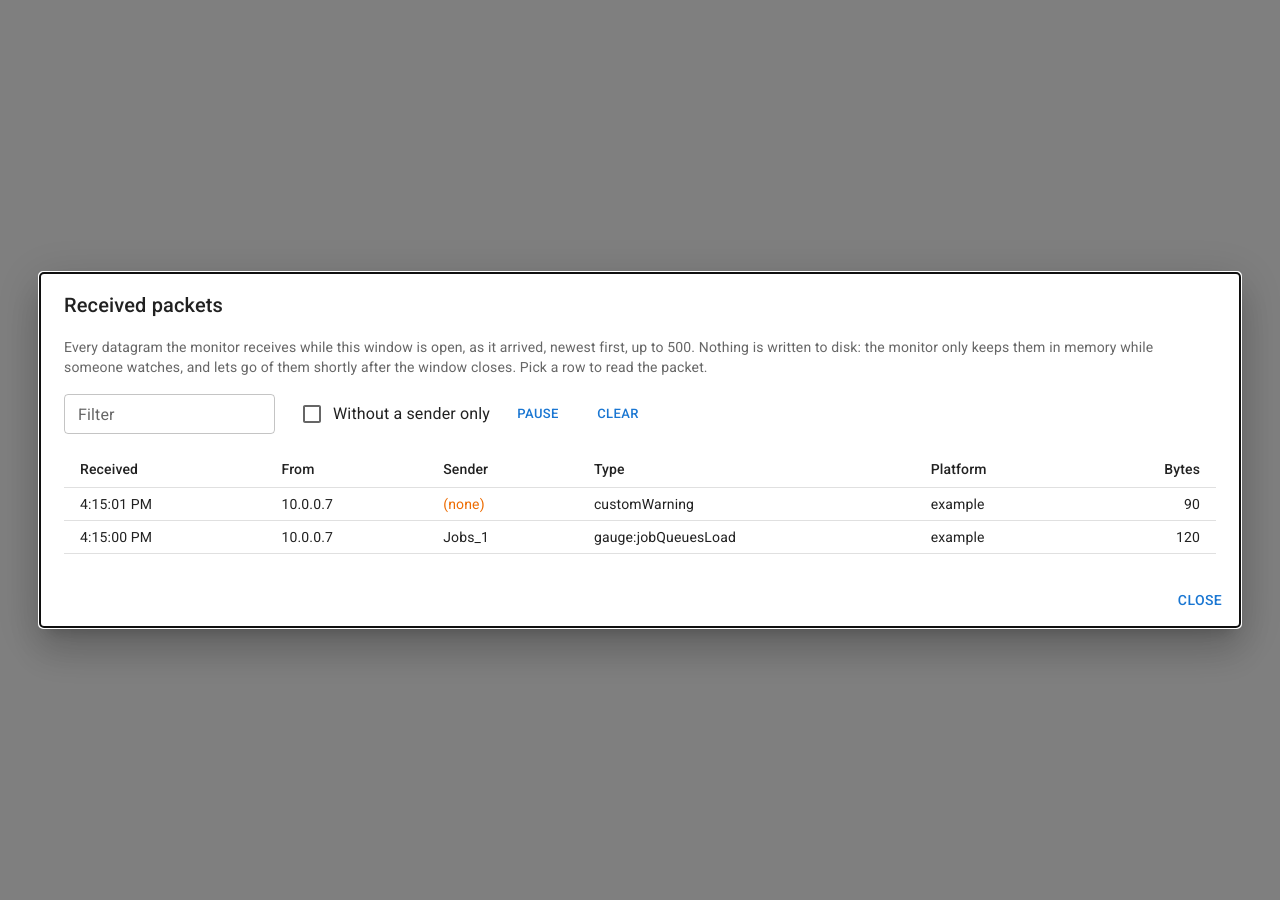
Test: PacketsDialog › shows what arrives and narrows to packets without a sender
The image size is (1280, 900).
Check: the text "Jobs_1" is shown, box [427,521,578,554]
Click the checkbox labelled "Without a sender only" at (395, 414), box [300,402,490,426]
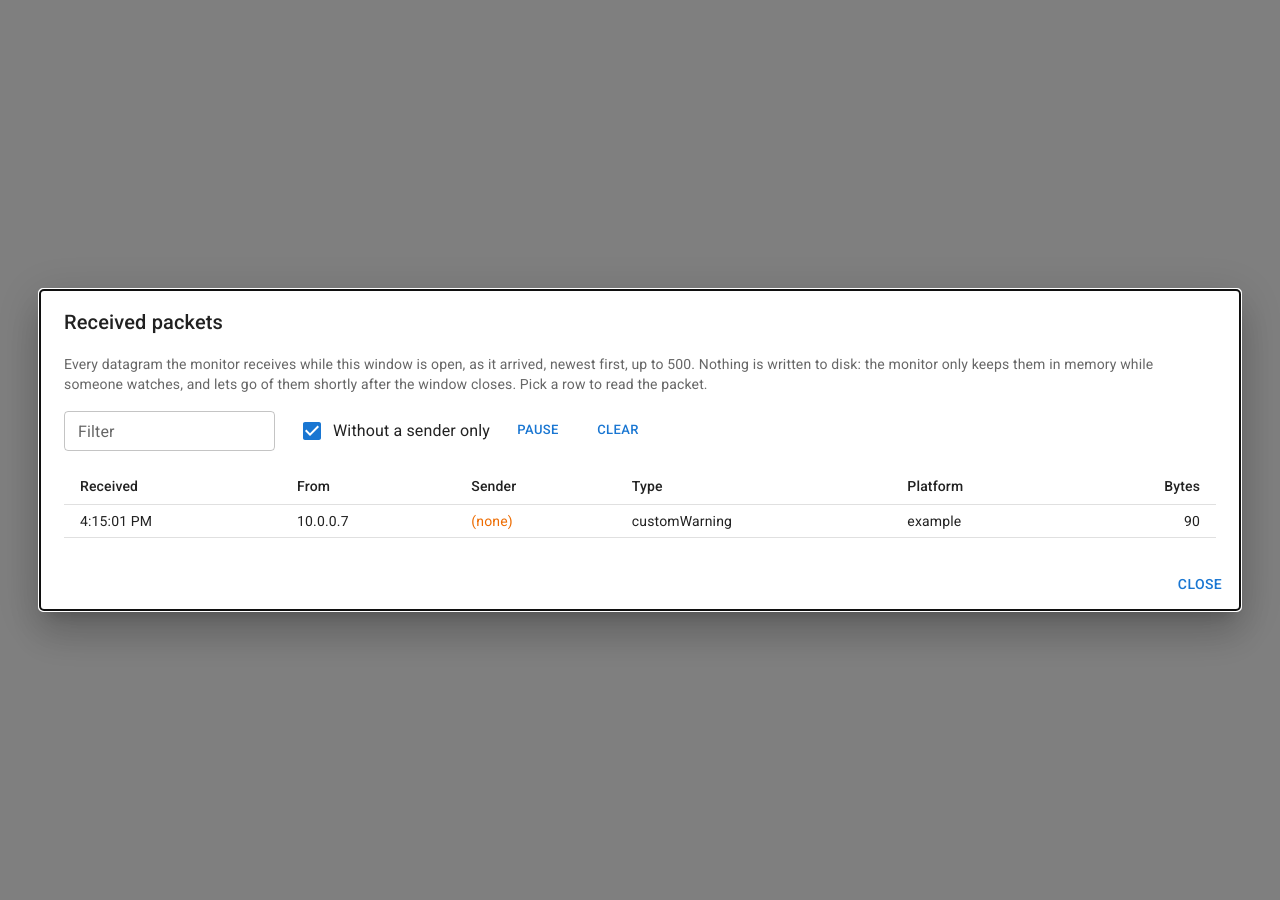
Check: the text "Jobs_1" is gone
Click the text "(none)" at (536, 521), box [455,504,616,537]
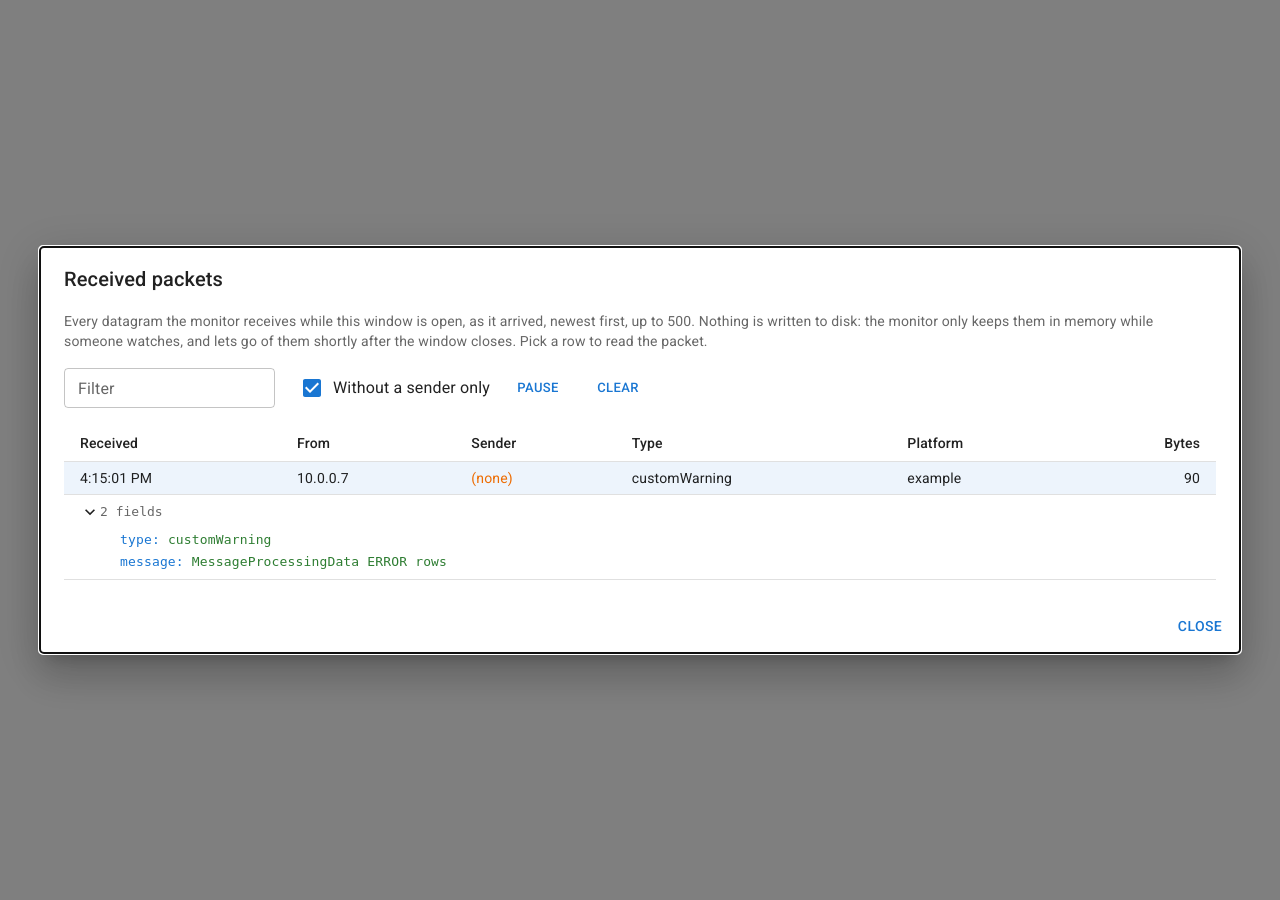
Check: the text "MessageProcessingData ERROR rows" is shown, box [192,554,447,569]
